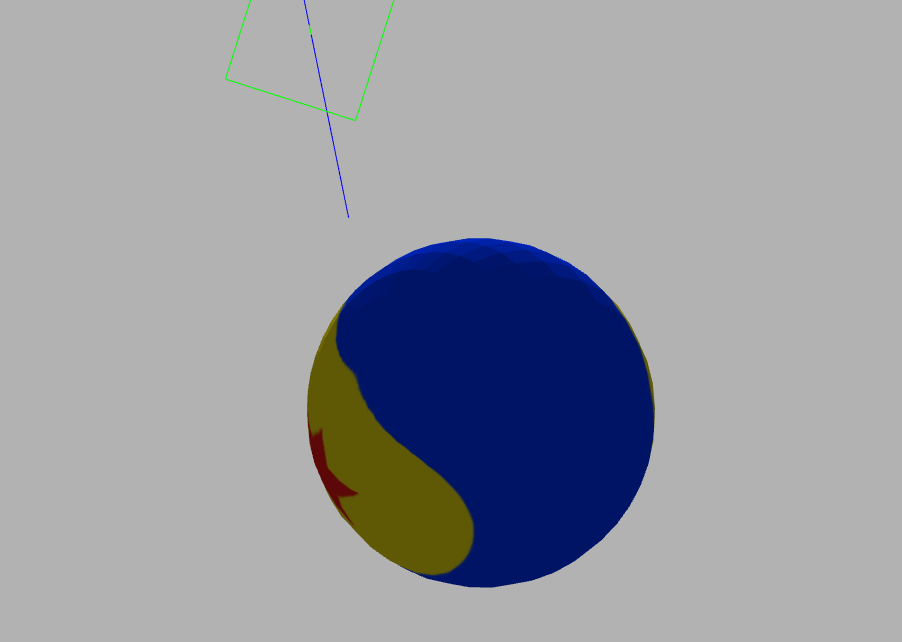toy_story_ball: (306, 236, 656, 589)
